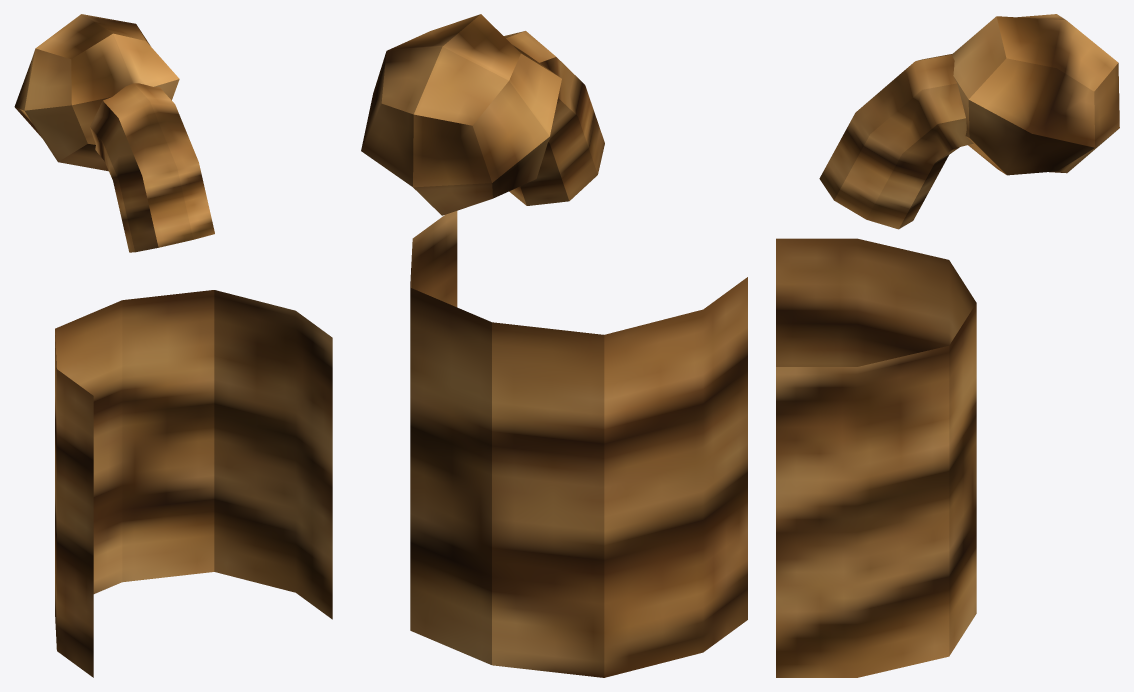
File: hair_nok_04.dae
3 views of the same model, side by side, from view 1: azimuth 30°, elevation 25°; view 2: azimuth 150°, elevation 25°; view 3: azimuth 270°, elevation 25° (orthographic). The views are drawn at different scales.
Visible parts, largest first — view 1: a_hair_nok_04; view 2: a_hair_nok_04; view 3: a_hair_nok_04.
Part boxes in pixels (x1,y1,x2,y2): a_hair_nok_04: [14, 14, 332, 677]; a_hair_nok_04: [361, 14, 747, 677]; a_hair_nok_04: [776, 14, 1119, 677].
Bounding box in the file's own units: 0.4127 × 0.4666 × 0.895.
